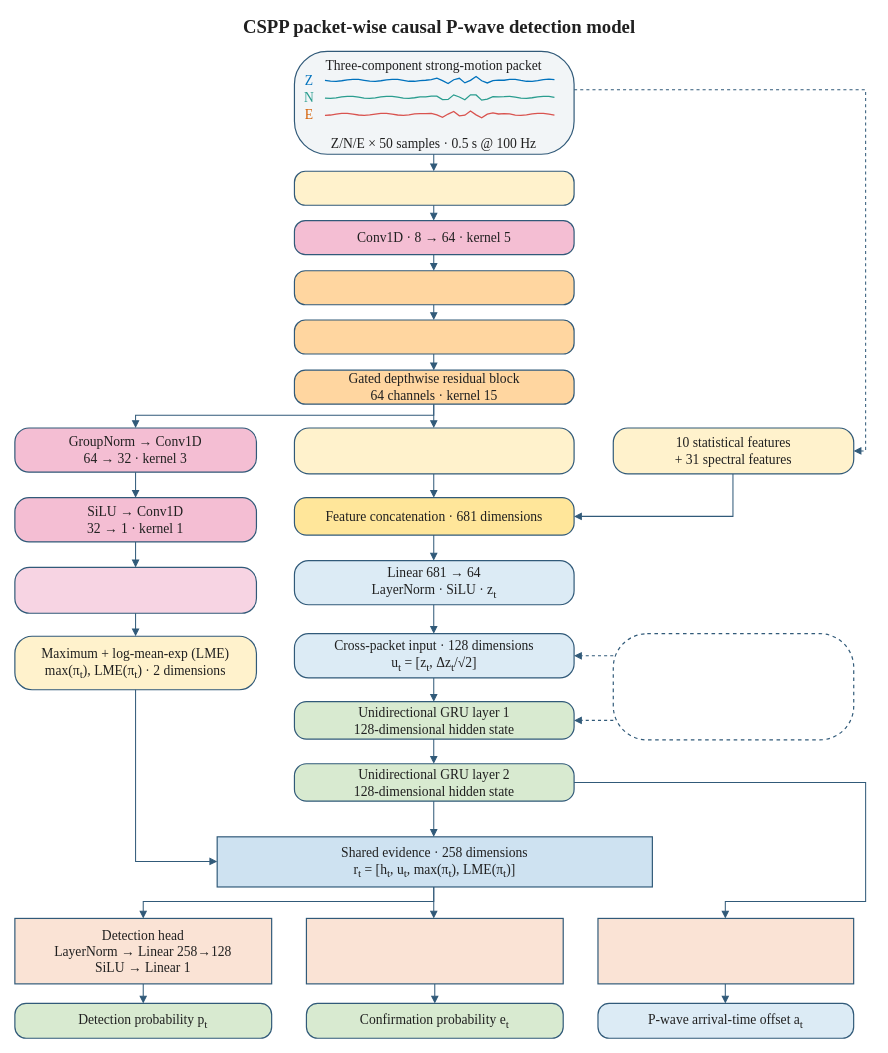
Image size: 888x1053. Some labels were removed from this diagram. The shapes that lost their labels are listed below. From the top down, each one's centre as x and y in pixels, then its label:
At point (433, 187): "Physical feature expansion · 3 → 8 channels".
At point (433, 287): "Gated depthwise residual block 64 channels · kernel 3".
At point (433, 336): "Gated depthwise residual block 64 channels · kernel 7".
At point (433, 450): "Average pooling + max pooling 2 × 64 × 5 = 640 dimensions".
At point (135, 589): "Linear interpolation · 50 samples P-wave evidence sequence π t".
At point (733, 686): "Previous packet state z t−1 h t−1 (1:2)".
At point (434, 950): "Confirmation head (stop gradient) LayerNorm → Linear 258→64 SiLU → Linear 1".
At point (725, 950): "Arrival-time head LayerNorm 128 → Linear 1".
